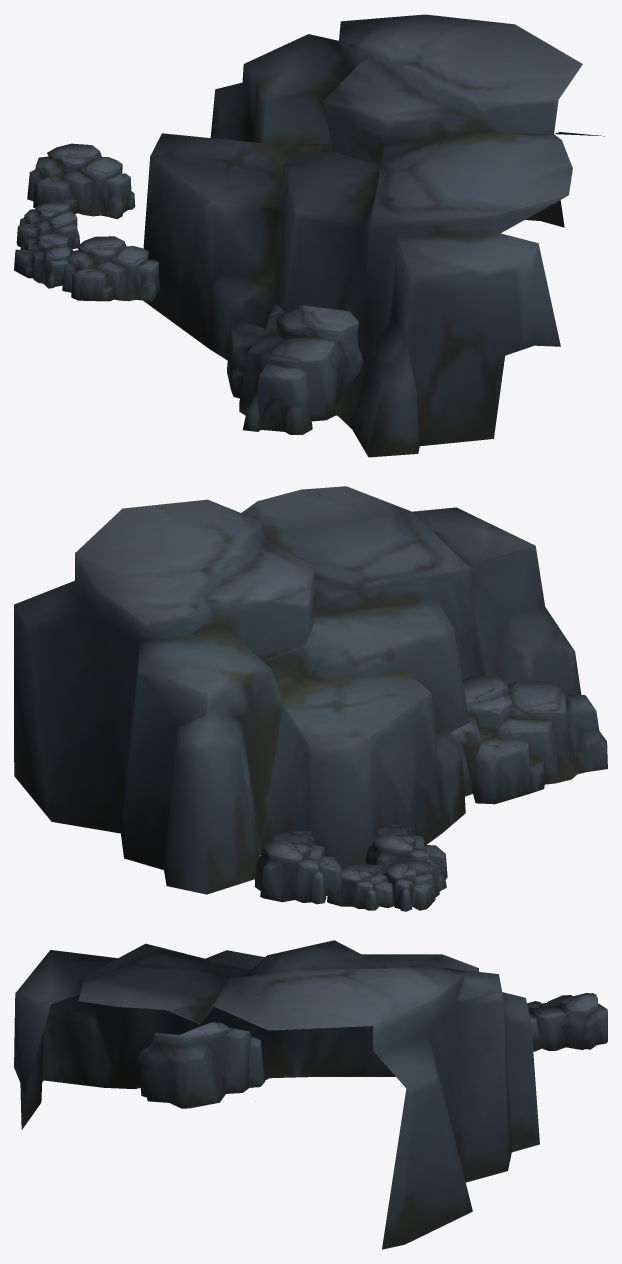
File: Area_06_12.fbx
The picture shows the model from 3 angles, top to bottom: view 1: azimuth 30°, elevation 25°; view 2: azimuth 150°, elevation 25°; view 3: azimuth 270°, elevation 25°; orthographic projection. The views are drawn at different scales.
Parts seen in each view (by area): view 1: Area_06_12; view 2: Area_06_12; view 3: Area_06_12.
Boxes of the visible parts, x1=… form: Area_06_12: x1=14, y1=14, x2=604, y2=457; Area_06_12: x1=14, y1=486, x2=607, y2=911; Area_06_12: x1=14, y1=940, x2=607, y2=1249.
Bounding box in the file's own units: 5587 × 2446 × 6596.
